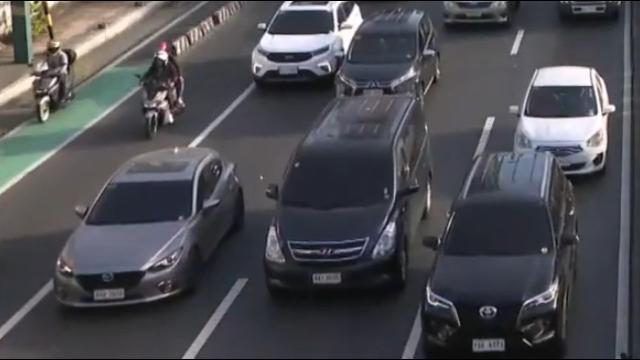car: (424, 152, 582, 360), (53, 146, 246, 311), (508, 63, 617, 183), (234, 0, 368, 94), (332, 0, 441, 105), (437, 0, 526, 28)
motorcycle: (134, 69, 187, 138), (33, 57, 79, 125)
van: (263, 94, 435, 298)
